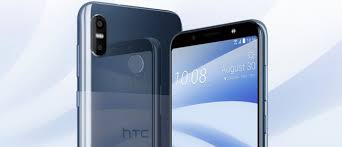htc: (74, 1, 172, 147), (167, 17, 271, 147)
